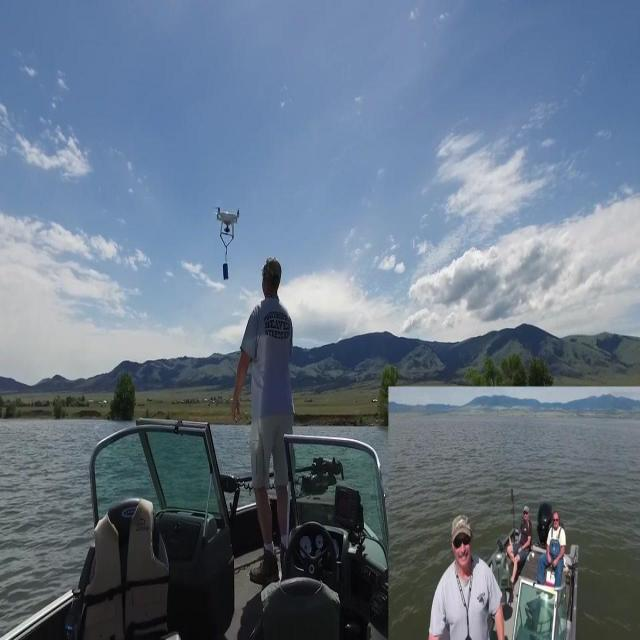UAV: (213, 206, 240, 280)
